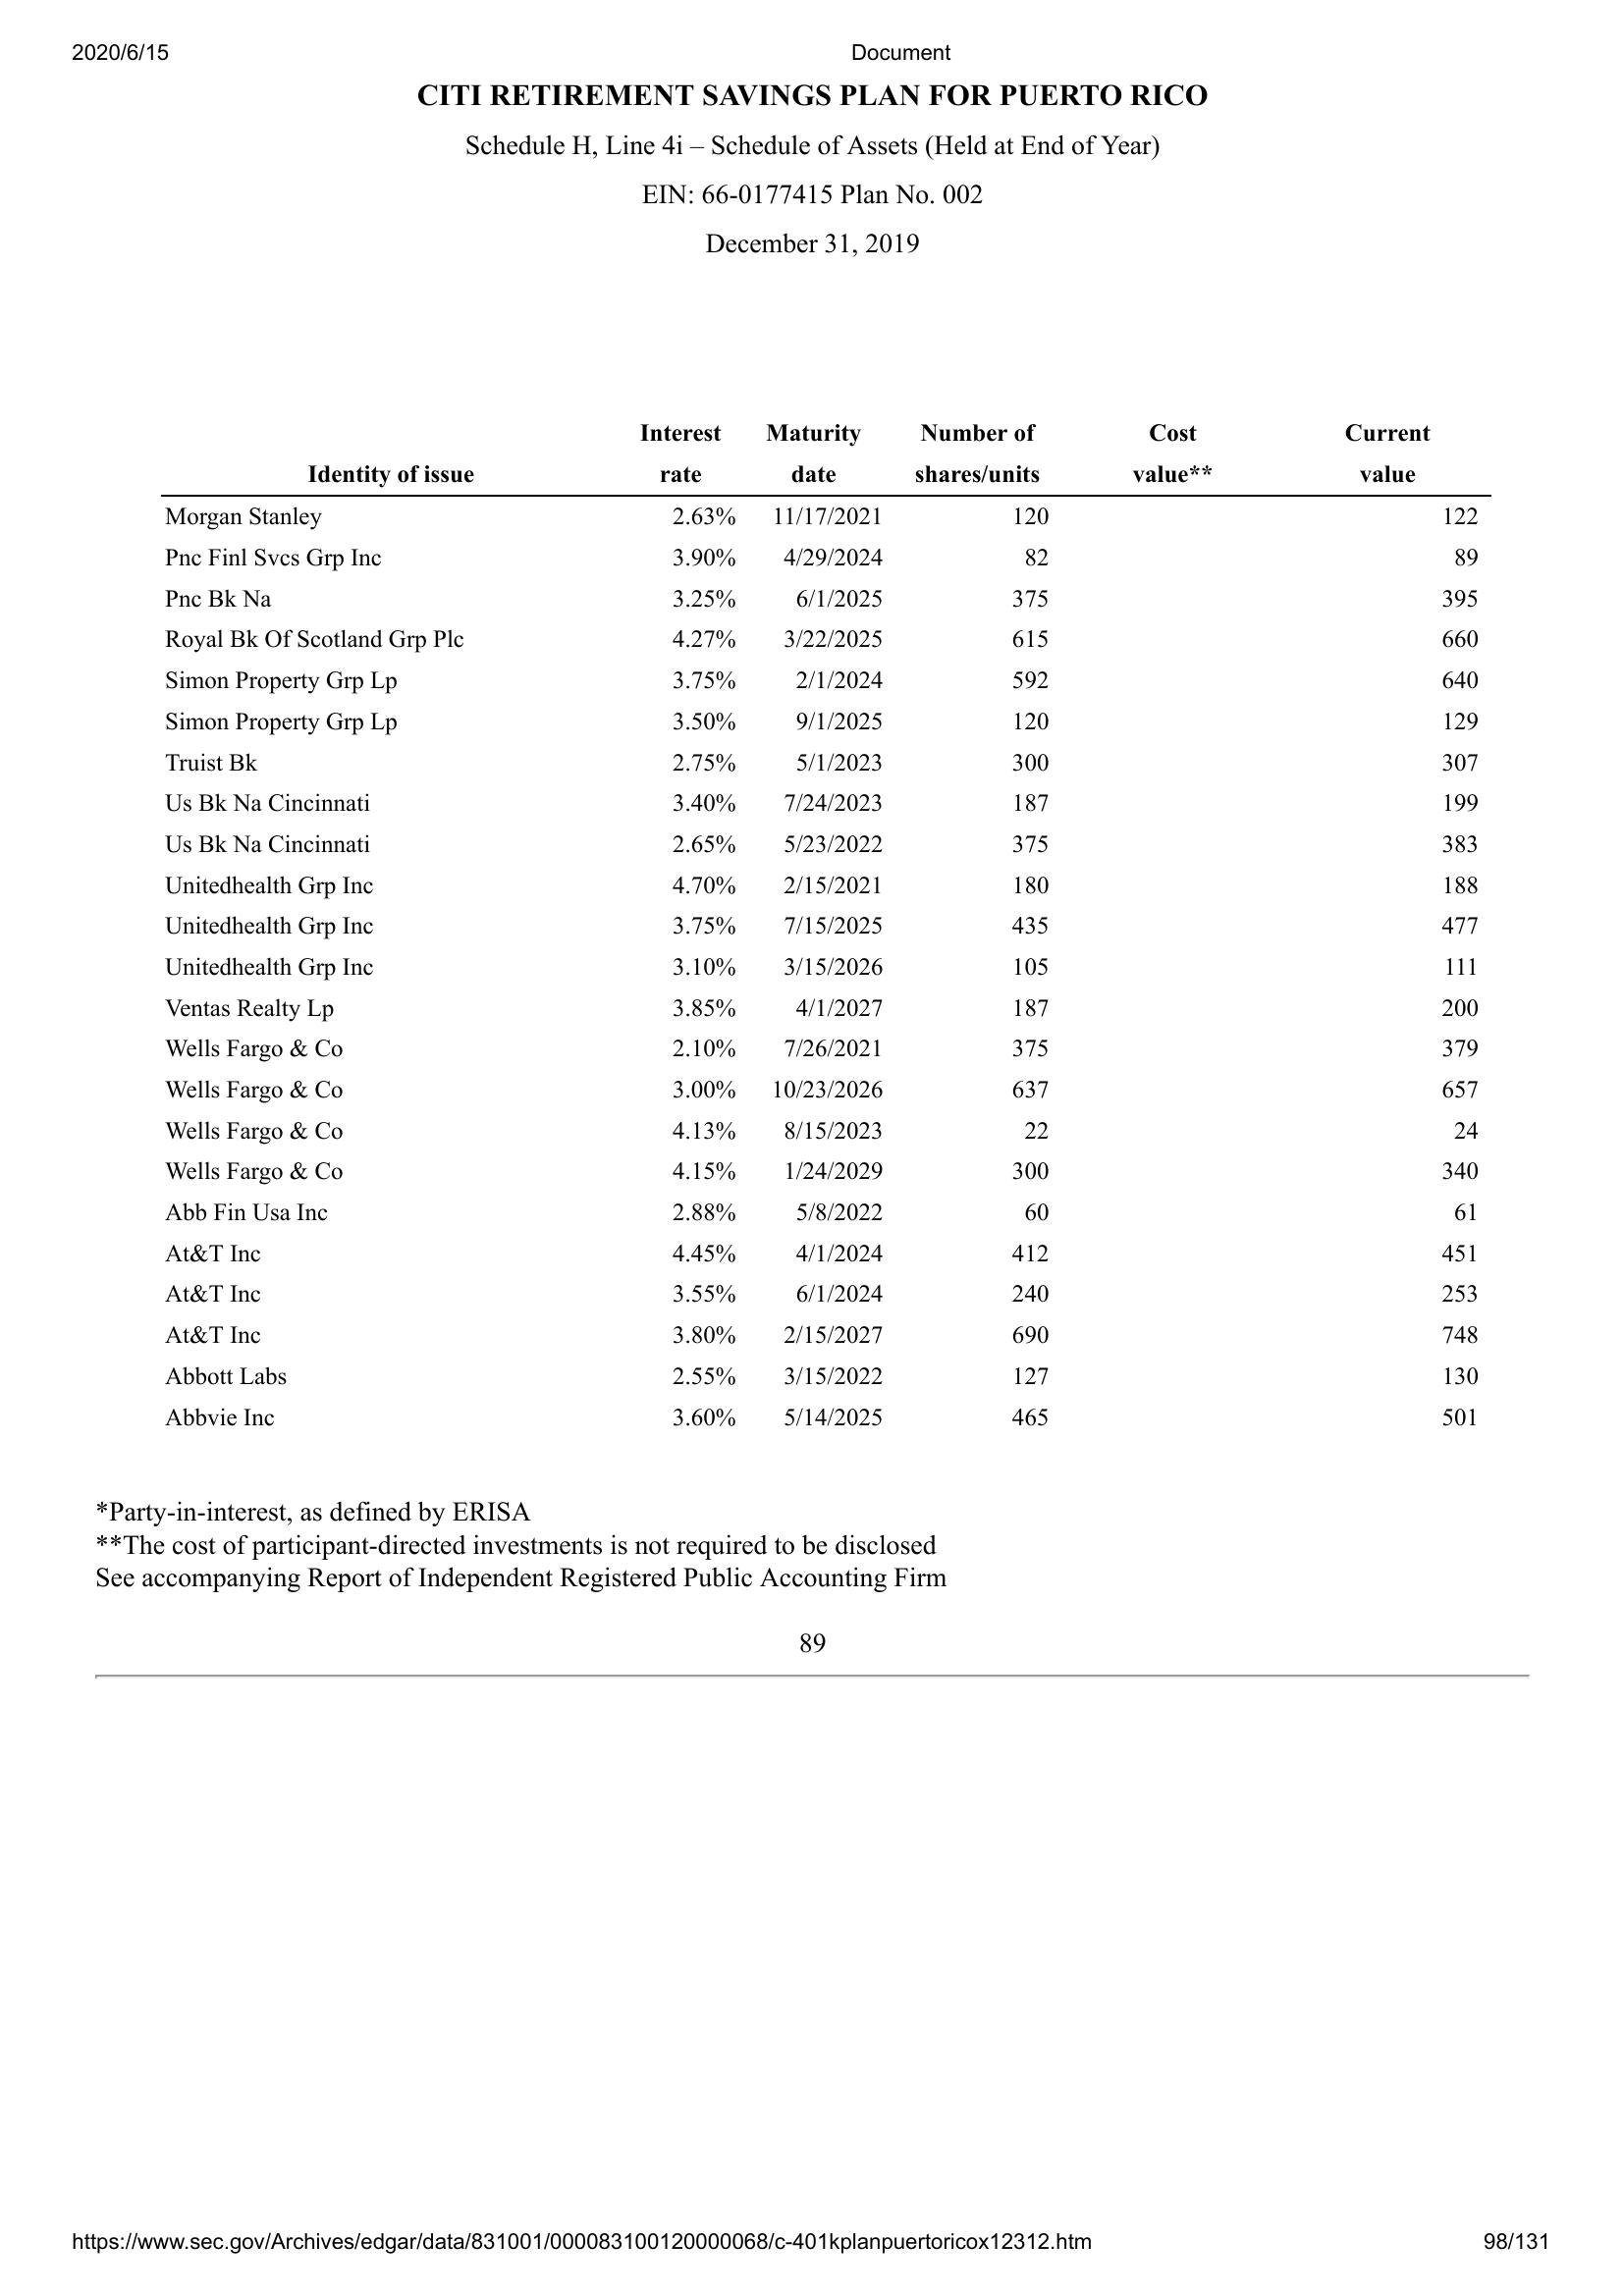table: (158, 421, 1486, 1432)
